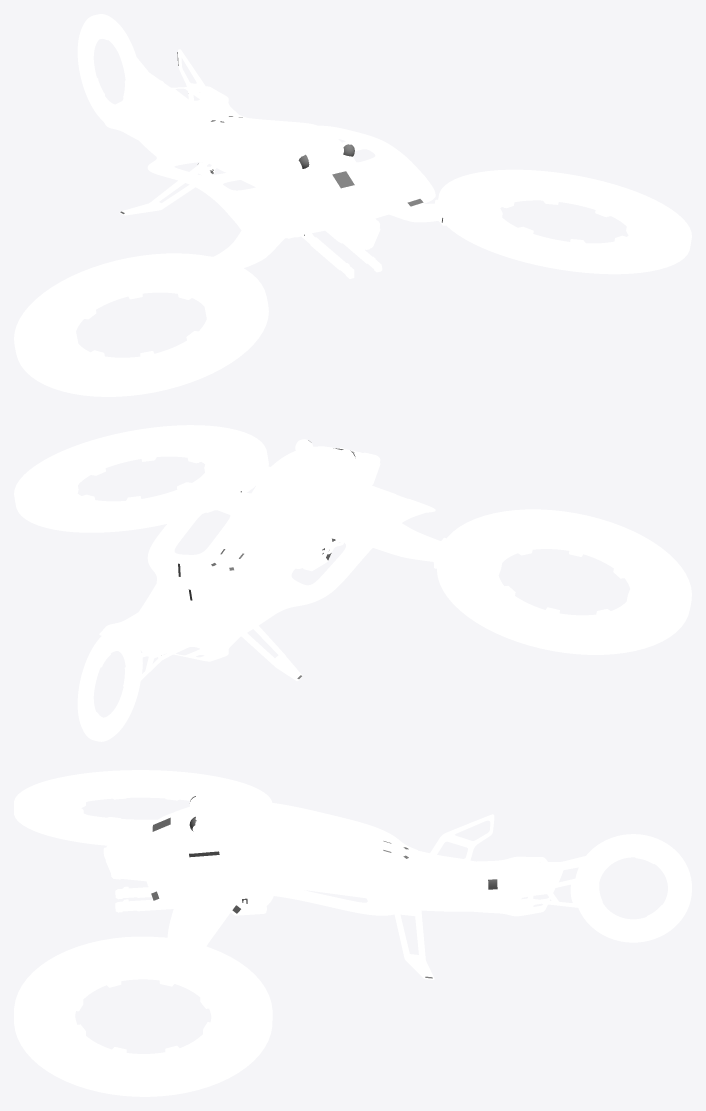
The model's file is drone_bake.glb.
3 renders of one model, top to bottom at view 1: azimuth 30°, elevation 25°; view 2: azimuth 150°, elevation 25°; view 3: azimuth 270°, elevation 25°, orthographic.
Parts seen in each view (by area): view 1: wings_Baked_1, Slice_Baked_0, gun_Baked_2, DroneAtlas_3; view 2: wings_Baked_1, Slice_Baked_0, gun_Baked_2; view 3: wings_Baked_1, Slice_Baked_0, gun_Baked_2, DroneAtlas_3.
Boxes of the visible parts, x1,y1,x2,y2 form: wings_Baked_1: (14, 14, 691, 396); Slice_Baked_0: (99, 75, 435, 249); gun_Baked_2: (287, 233, 382, 278); DroneAtlas_3: (120, 52, 442, 235); wings_Baked_1: (14, 425, 691, 741); Slice_Baked_0: (99, 446, 435, 661); gun_Baked_2: (295, 538, 343, 571); wings_Baked_1: (14, 770, 691, 1096); Slice_Baked_0: (103, 799, 563, 916); gun_Baked_2: (115, 886, 273, 915); DroneAtlas_3: (151, 796, 497, 978).
Size of the model in its own units: 29.79 by 5.97 by 27.
2 materials, 1 textured.
